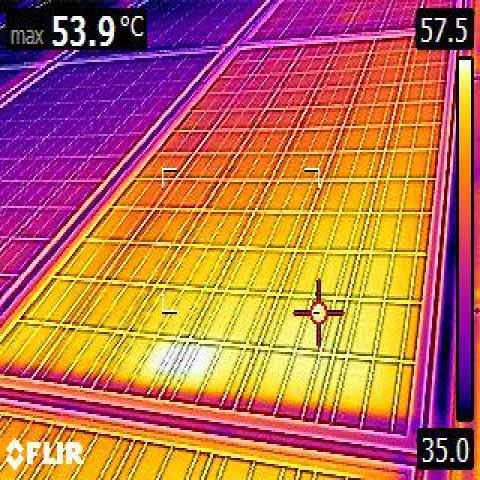fault: (145, 341, 210, 380)
